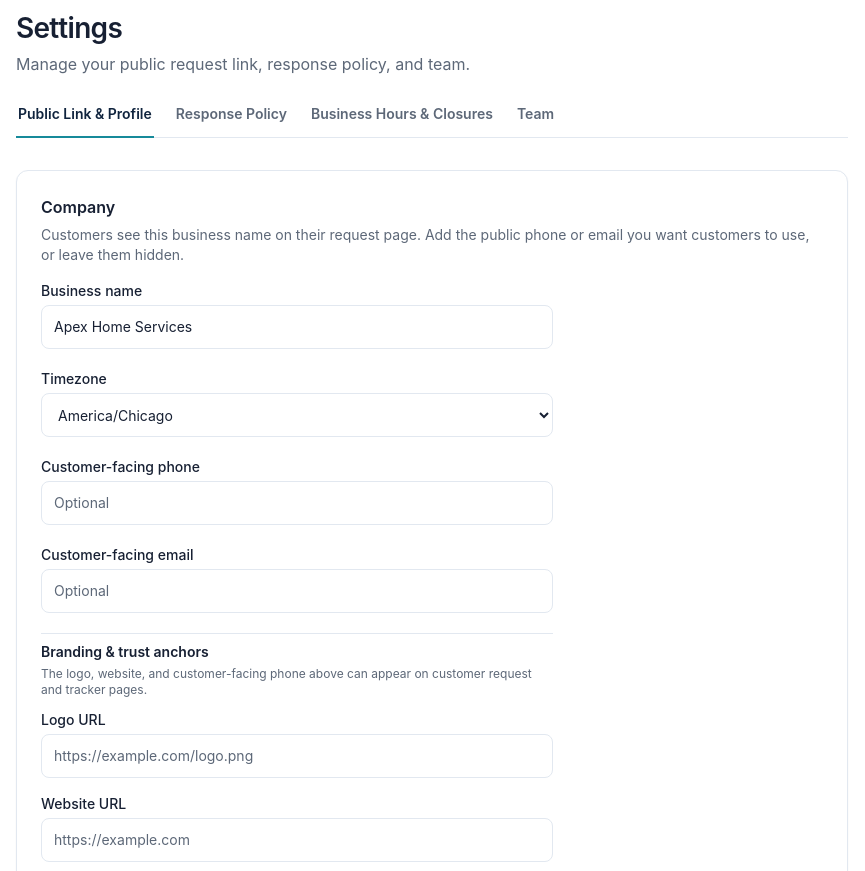
Test: Settings — V2 shell › gives Response Policy inputs the shared keep-field recipe
Click the tab "Response Policy" at (231, 115), box [174, 92, 289, 138]
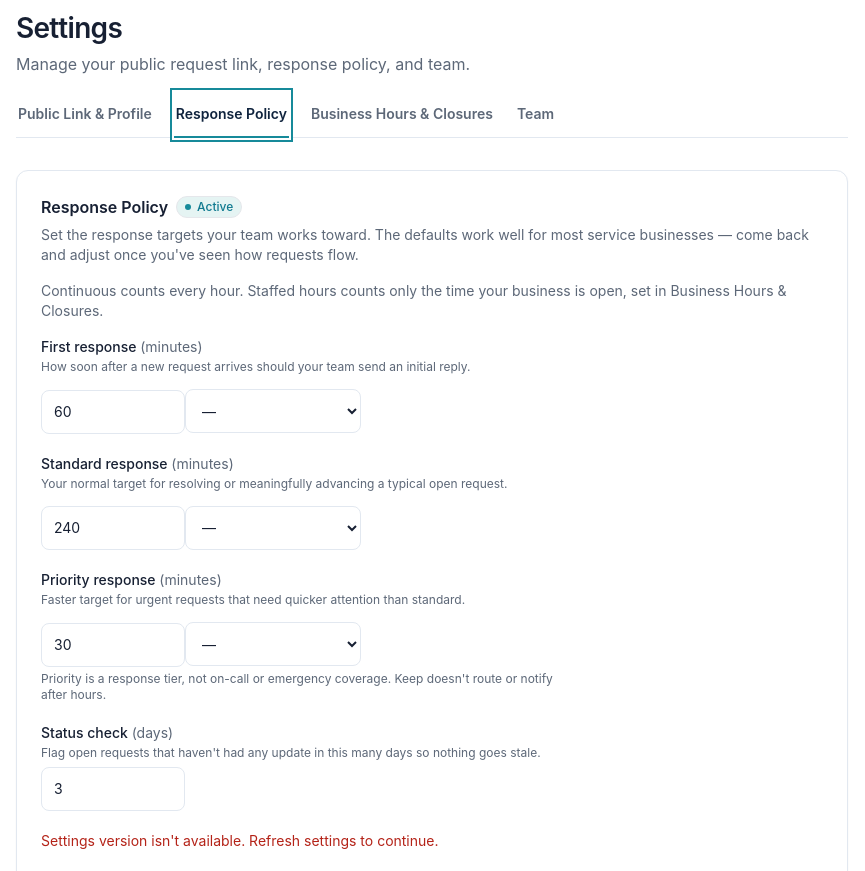
Expected: the heading "Response Policy" is shown, [41, 195, 168, 219]
